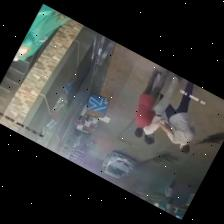person: (144, 74, 182, 143), (160, 81, 195, 153), (135, 68, 168, 137), (165, 179, 176, 198), (166, 197, 174, 210)
